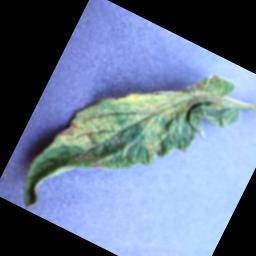Leaf_Mold: (93, 40, 213, 172), (51, 93, 128, 170)
